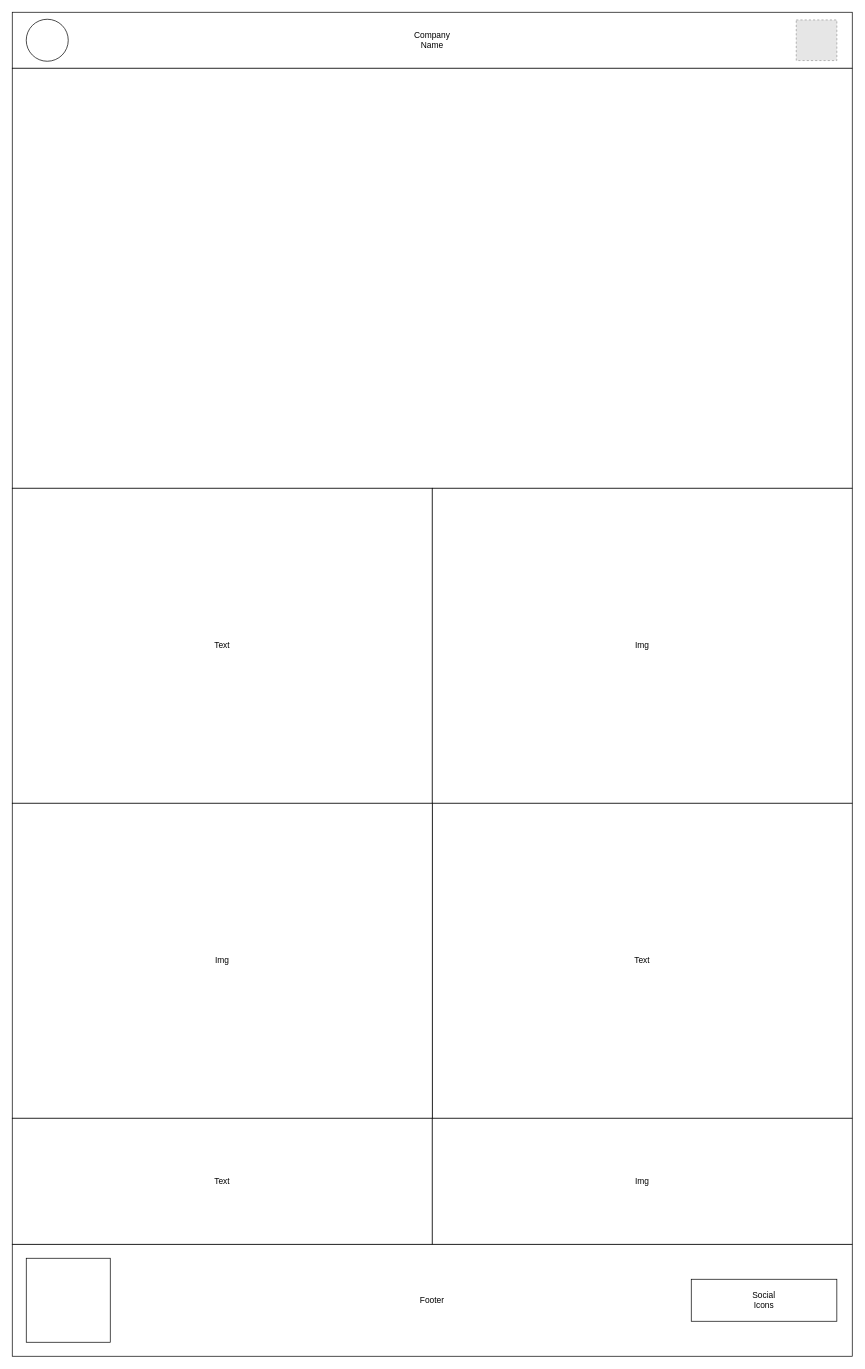
The diagram is 865 pixels wide and 1369 high, and some of its shapes have lost their labels. Grey dashed boxes stand in for pictures. Here are the shapes that lost their labels. From the top down, the centre of each, then its label:
At (x=47, y=40): "Logo".
At (x=432, y=278): "Hero".
At (x=68, y=1300): "Company Info".
